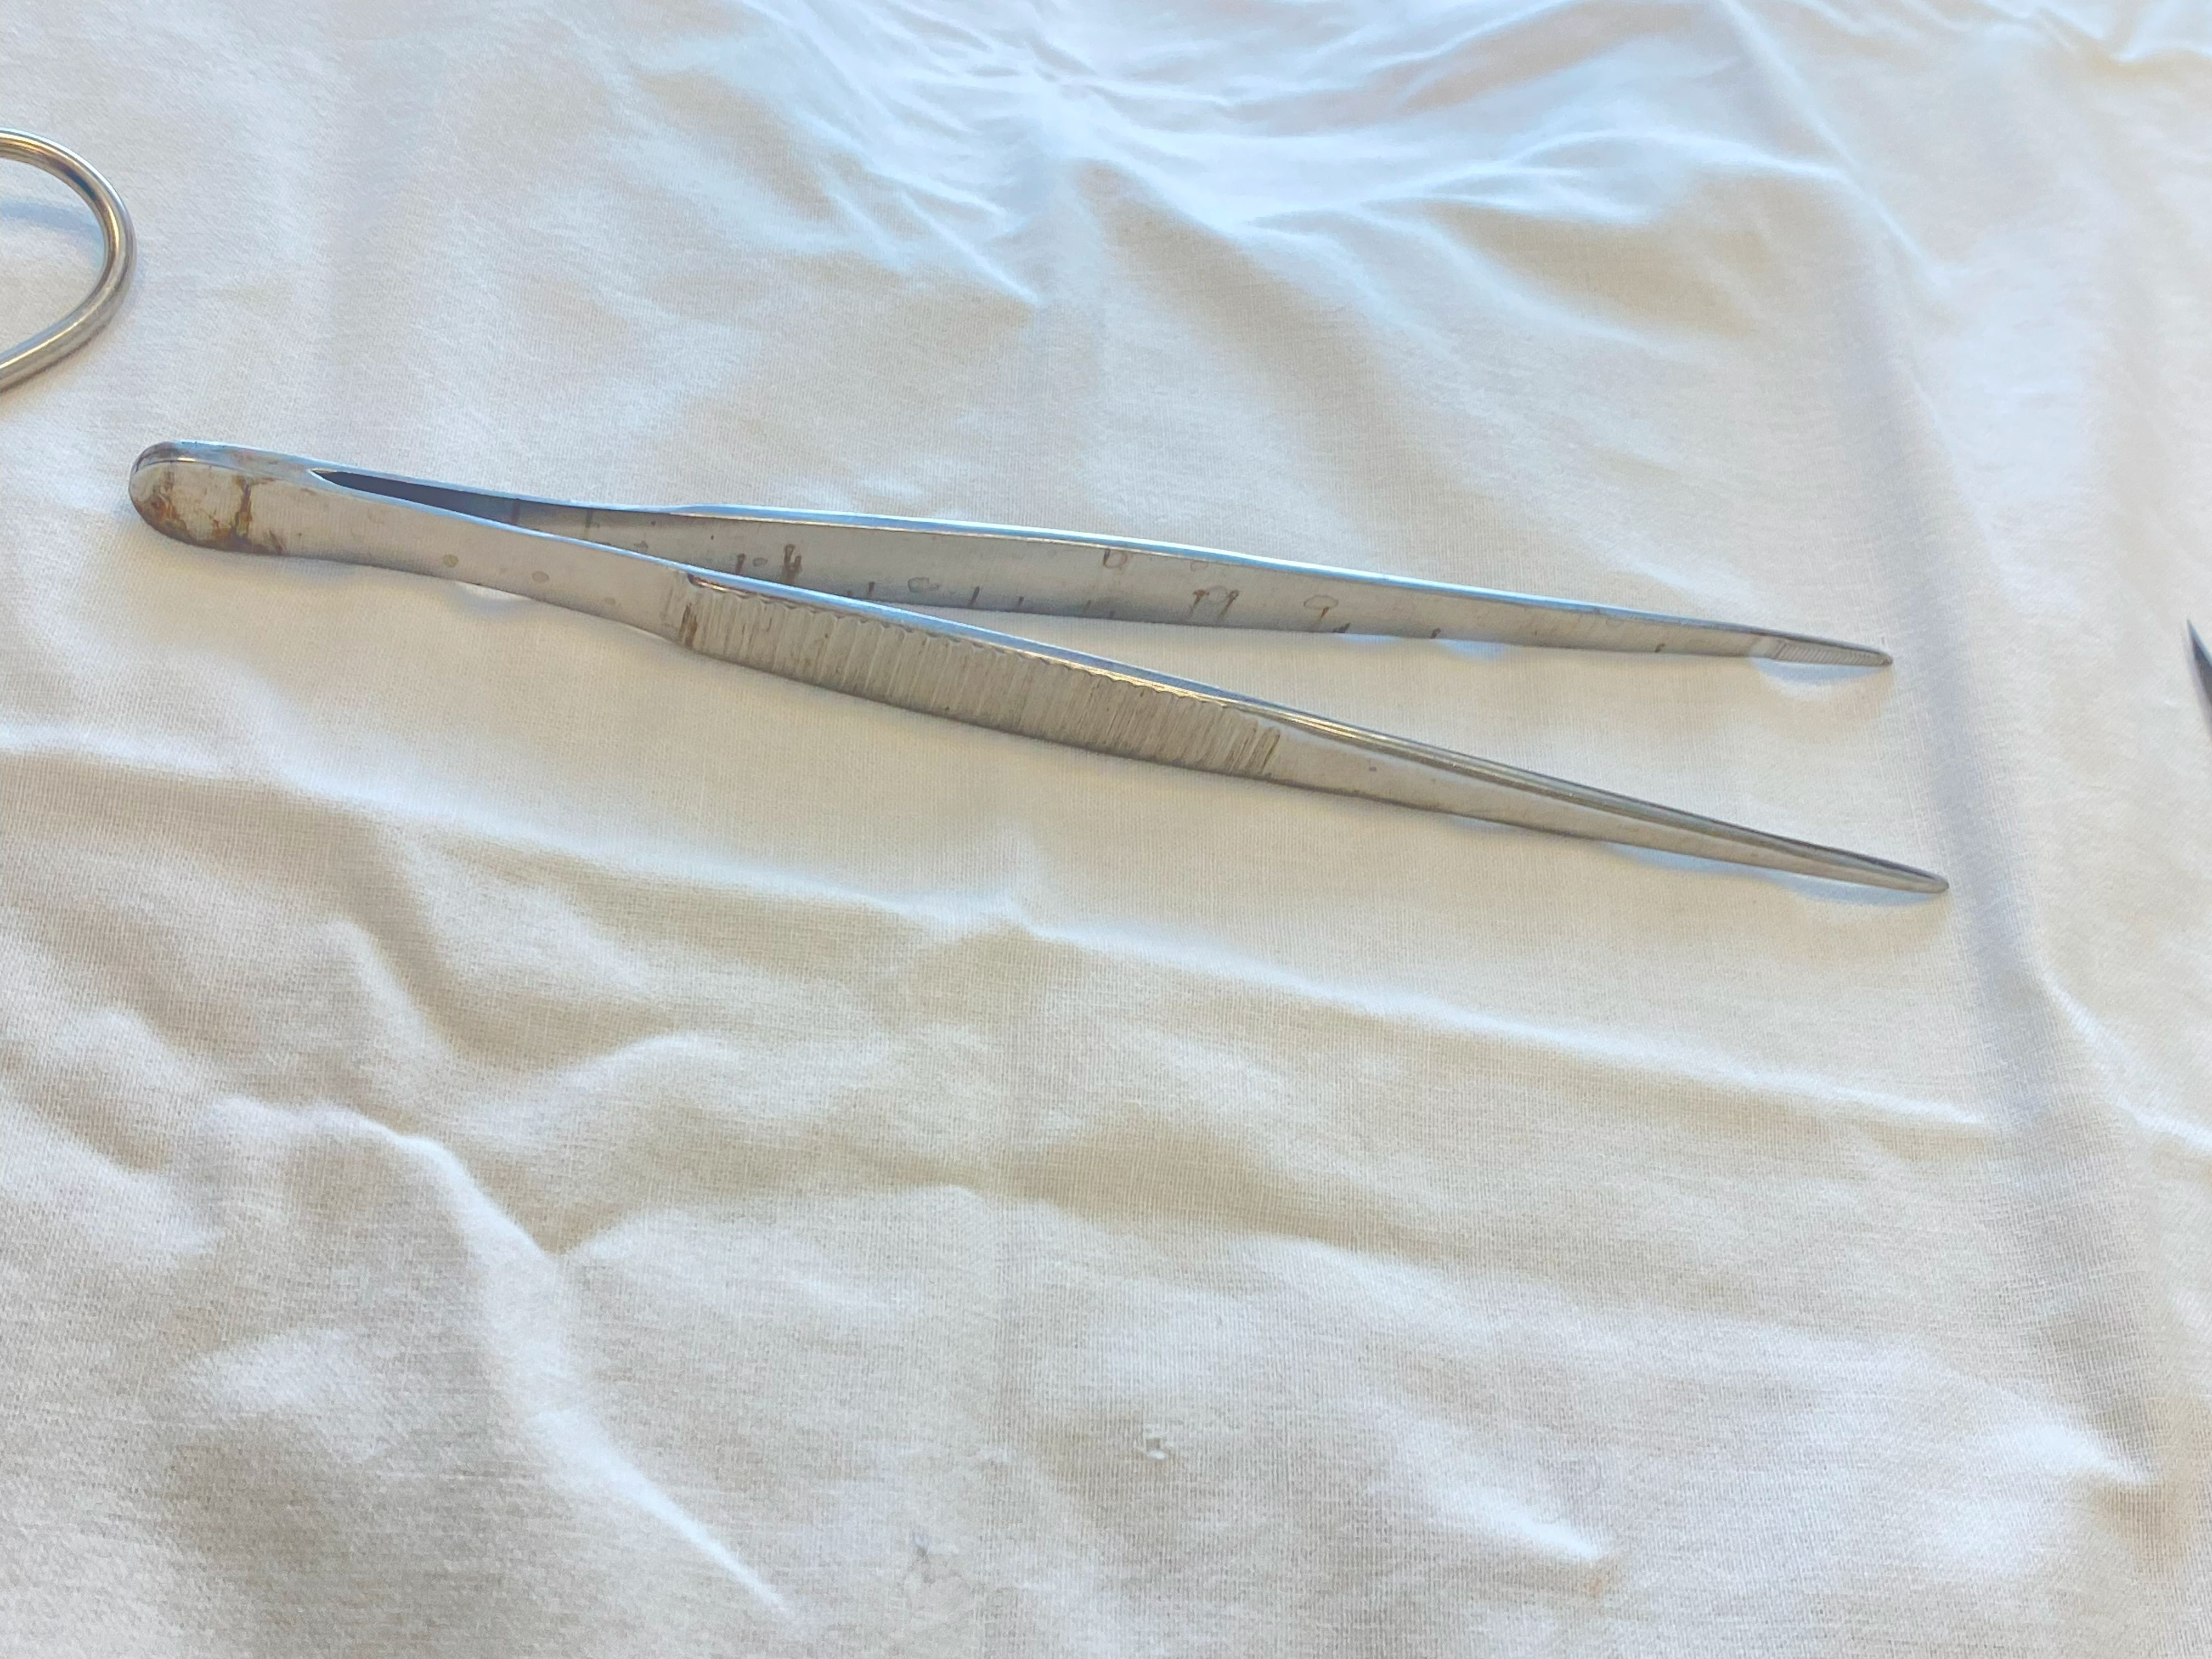tweezers: (129, 441, 1947, 894)
